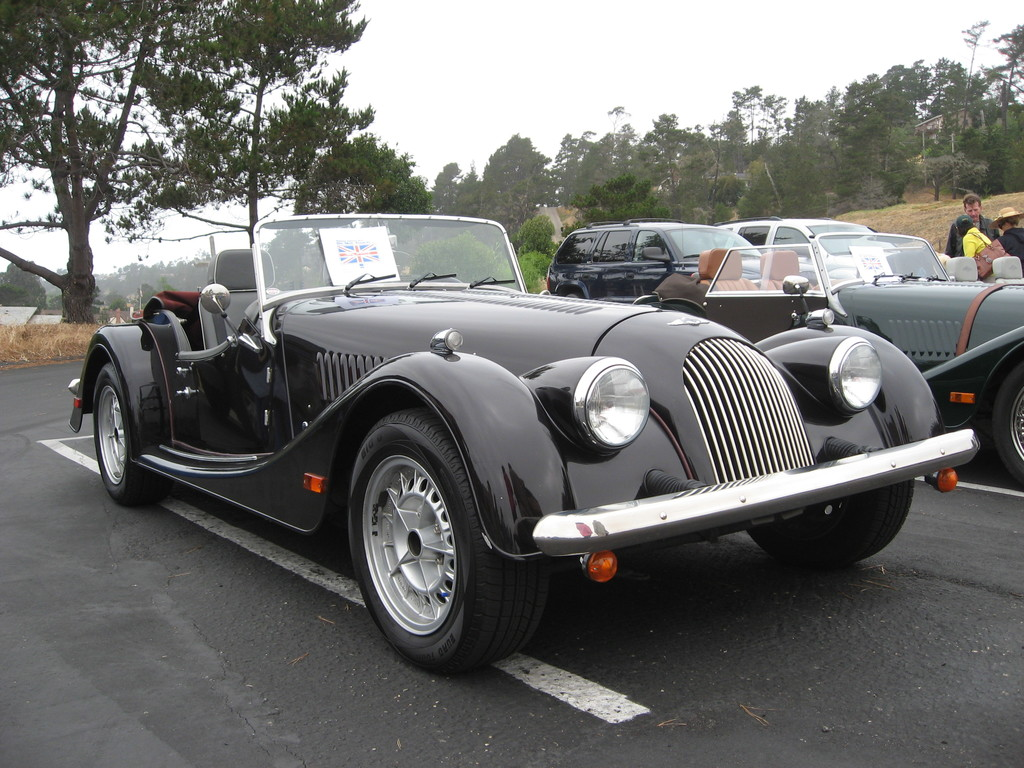mobil: (112, 190, 928, 586)
